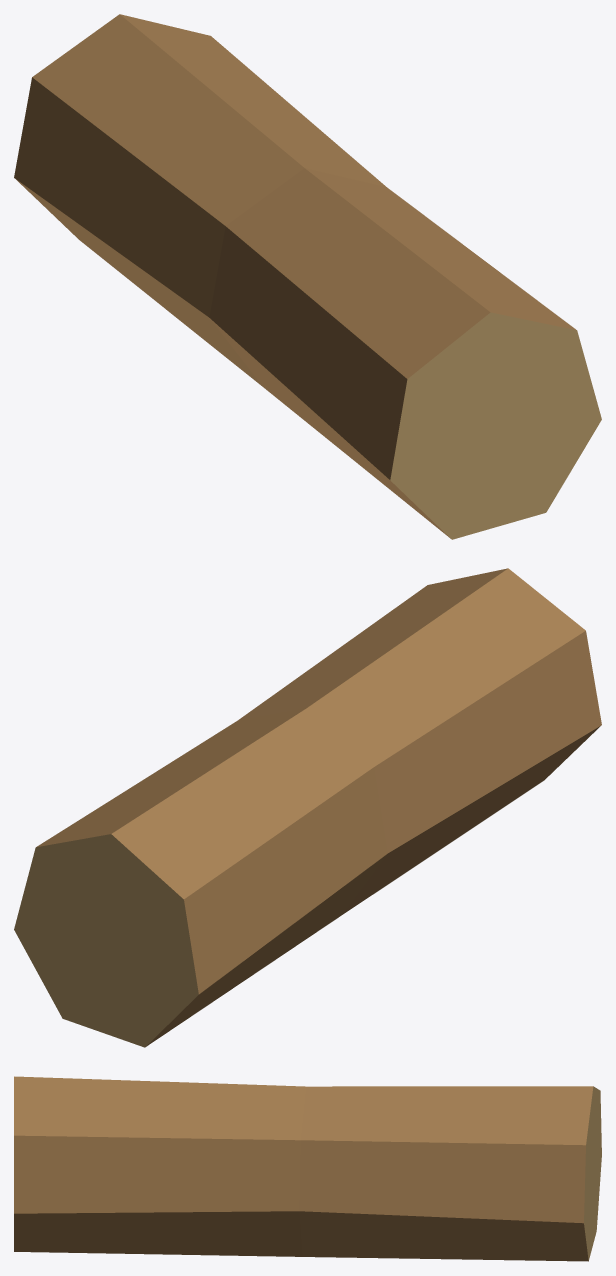
Rendered from log_03.fbx.
3 renders of one model, top to bottom at view 1: azimuth 30°, elevation 25°; view 2: azimuth 150°, elevation 25°; view 3: azimuth 270°, elevation 25°, orthographic. The views are drawn at different scales.
Visible parts, largest first — view 1: log_03; view 2: log_03; view 3: log_03.
Part boxes in pixels (box(x1,y1,x2,y2)): log_03: box(14, 14, 601, 539); log_03: box(14, 568, 601, 1047); log_03: box(14, 1076, 601, 1261).
Bounding box in the file's own units: 41.95 × 36.64 × 123.
